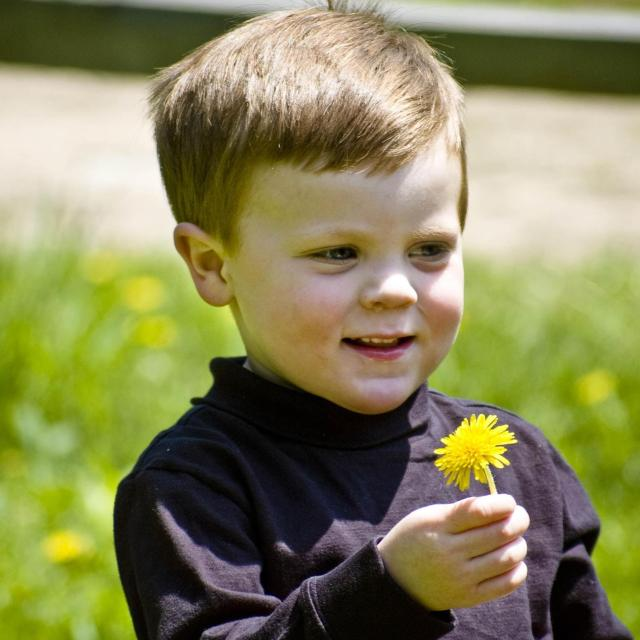no-glass: (300, 233, 458, 272)
